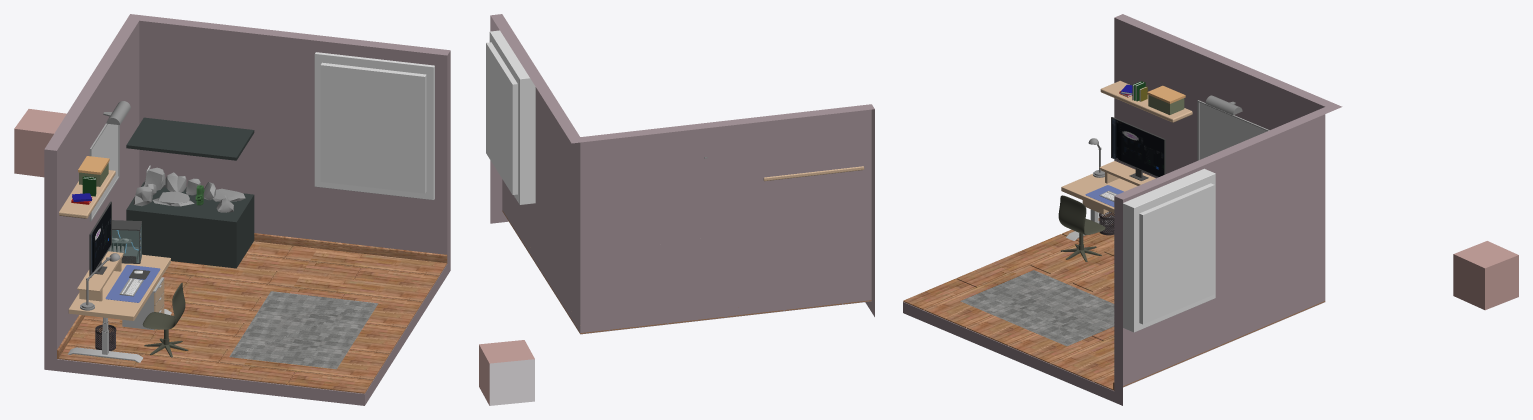
The model's file is threeJSroom(1.1.0).glb.
3 views of the same model, side by side, from view 1: azimuth 30°, elevation 25°; view 2: azimuth 150°, elevation 25°; view 3: azimuth 270°, elevation 25° (orthographic). The views are drawn at different scales.
Parts seen in each view (by area): view 1: room, floor, window, fishtank, rug, window frame, Cube.008, baseboard, table, board, computer, tabletop (+9 smaller); view 2: room, window, Cube.008, window frame, floor, shelf; view 3: room, floor, window, rug, window frame, Cube.008, board, screen black, table, chair.001, shelf, box (+1 smaller).
Boxes of the visible parts, x1,y1,x2,y2 form: room: (44,14,450,405); floor: (58,241,446,393); window: (320,62,426,193); fishtank: (126,117,254,268); rug: (229,291,378,369); window frame: (314,52,434,200); Cube.008: (14,109,66,177); baseboard: (57,233,447,358); table: (68,254,170,320); board: (89,123,119,221); computer: (108,220,141,263); tabletop: (77,251,123,301); room: (490,14,874,334); window: (486,42,517,194); Cube.008: (479,340,534,405); window frame: (489,30,535,204); floor: (502,210,871,333); shelf: (763,166,864,181); room: (903,14,1342,405); floor: (903,213,1325,390); window: (1139,183,1214,324); rug: (960,270,1114,346); window frame: (1123,168,1215,332); Cube.008: (1453,241,1518,310); board: (1197,100,1269,160); screen black: (1112,118,1163,176); table: (1061,173,1137,212); chair.001: (1058,195,1105,234); shelf: (1100,80,1192,122); box: (1147,85,1185,114).
Size of the model in its own units: 18.41 by 9.53 by 25.79.
Materials: 47 (5 with a texture image).
